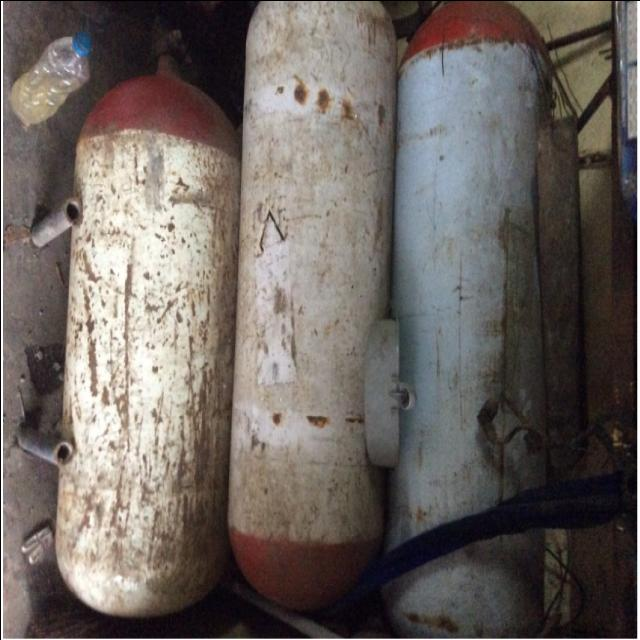cylinder: (54, 53, 239, 615)
